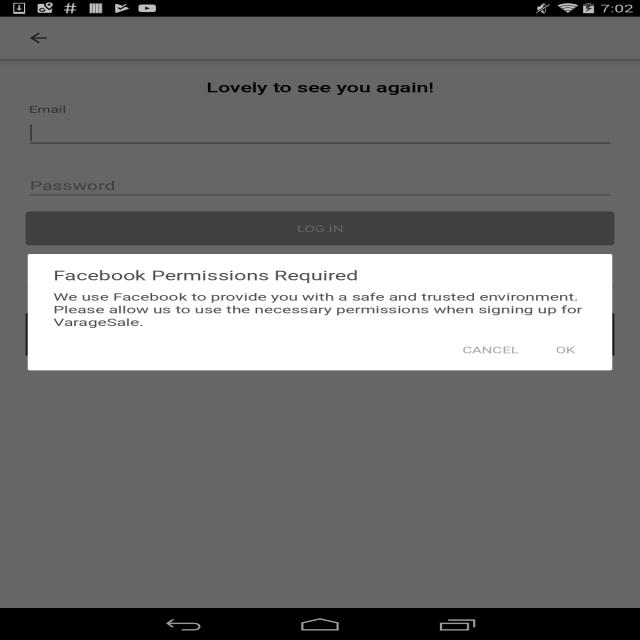Button: (18, 206, 624, 247)
EditText: (23, 102, 619, 148), (17, 171, 622, 200)
ImageButton: (23, 28, 55, 49)
TextView: (49, 290, 590, 328), (51, 263, 365, 281), (203, 76, 441, 98), (454, 338, 521, 360), (546, 340, 582, 358)
